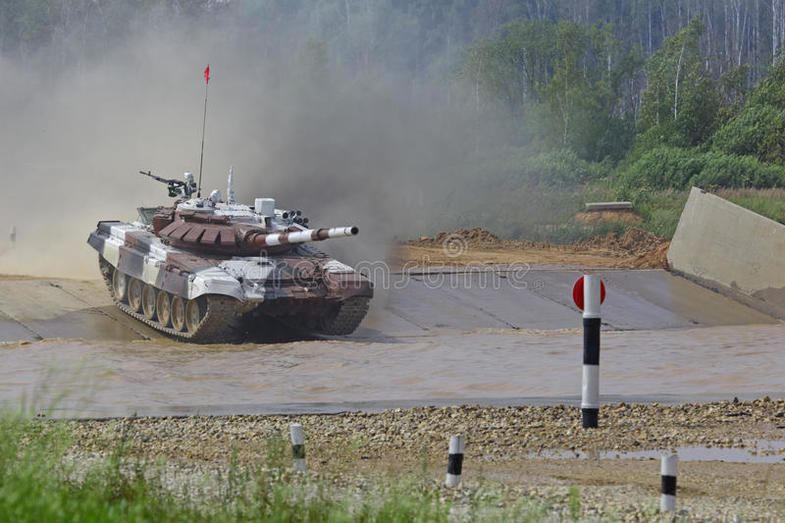t72: (87, 192, 378, 338)
